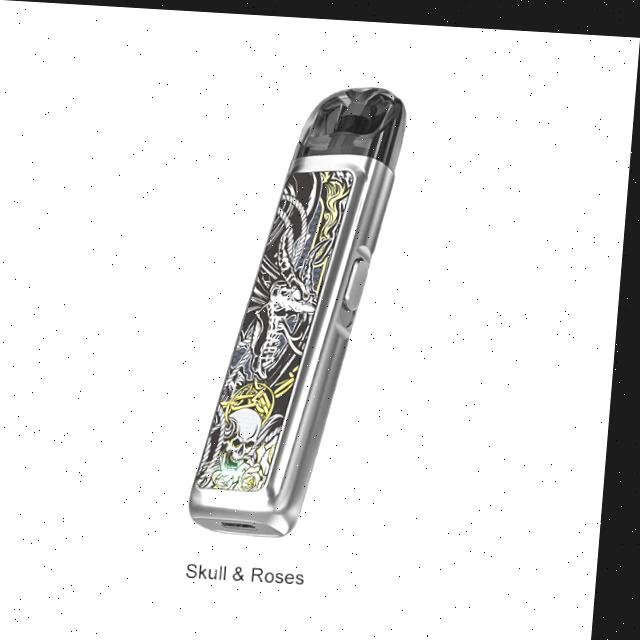vape: (195, 81, 409, 534)
